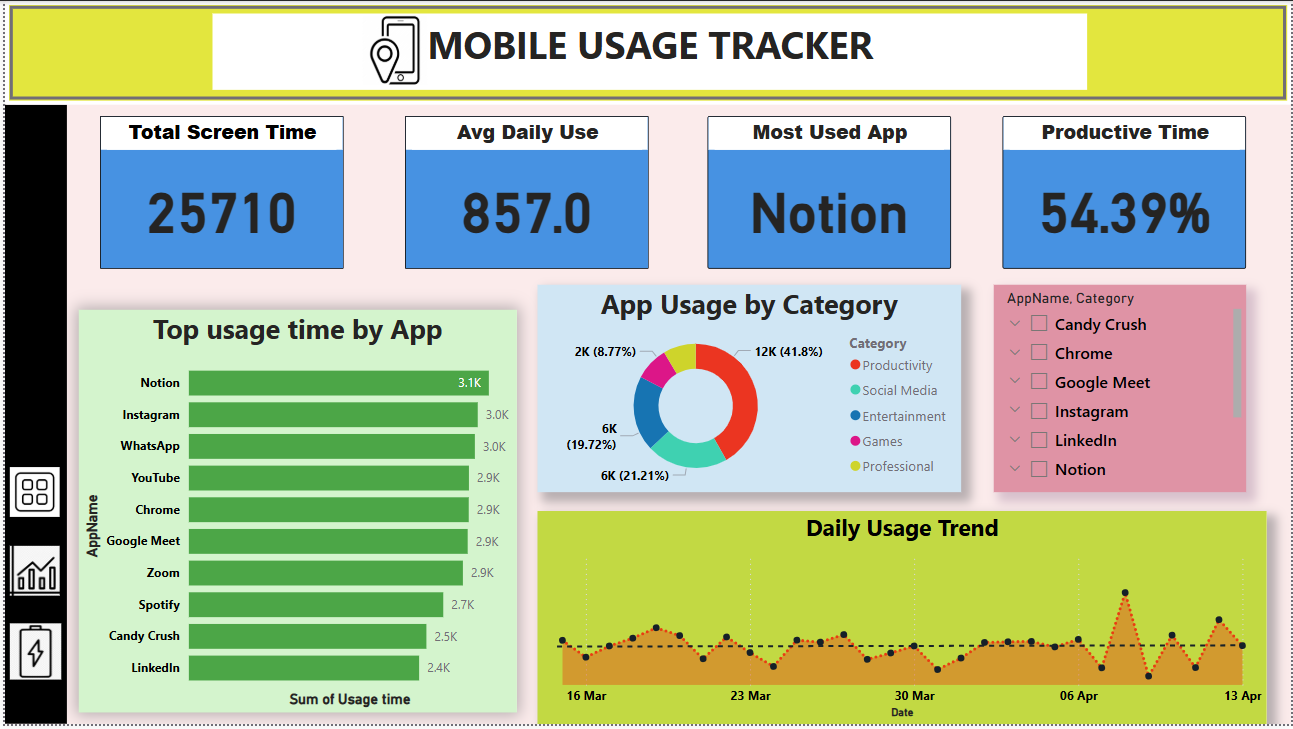

What the dashboard file says about the page in this screenshot:
{"tool":"powerbi","page":{"name":"Mobile Tracker Dashboard","canvas":[1280,720],"ordinal":0},"visuals":[{"type":"card","title":"Total Screen Time","fields":{"Values":["Mobile_Usage_Tracker.Total Screen Time (mins)"]},"box":[94.5,114.4,242,151.8],"z":0},{"type":"card","title":"Avg Daily Use","fields":{"Values":["Mobile_Usage_Tracker.Avg Daily Usage (mins)"]},"box":[398.1,114.4,242.6,151.8],"z":1000},{"type":"card","title":"Most Used App","fields":{"Values":["Mobile_Usage_Tracker.Most Used App"]},"box":[699.1,114,242,151.8],"z":2000},{"type":"card","title":"Productive Time","fields":{"Values":["Mobile_Usage_Tracker.Productive Time %"]},"box":[992.7,114.4,242.6,151.8],"z":3000},{"type":"textbox","box":[0,103,61.2,616.3],"z":4000},{"type":"actionButton","box":[0,0,1280,103.2],"z":5000},{"type":"textbox","box":[206.5,12.4,870.8,75.9],"z":7000},{"type":"barChart","title":"Top  usage time by App ","fields":{"Category":["Mobile_Usage_Tracker.AppName"],"Y":["Sum(Mobile_Usage_Tracker.AdjustedDuration_Final)"]},"box":[73.6,307.3,435.7,401.1],"z":8000},{"type":"donutChart","title":"App Usage by Category","fields":{"Category":["Mobile_Usage_Tracker.Category"],"Y":["Sum(Mobile_Usage_Tracker.Adjusted app usage(mins))"]},"box":[529.5,282.8,421.3,206.3],"z":9000},{"type":"slicer","fields":{"Values":["Mobile_Usage_Tracker.AppName","Mobile_Usage_Tracker.Category"]},"box":[984,282.8,251,206.3],"z":10000},{"type":"areaChart","title":"Daily Usage Trend","fields":{"Category":["Mobile_Usage_Tracker.Date"],"Y":["Sum(Mobile_Usage_Tracker.Adjusted app usage(mins))"]},"box":[529.5,507.9,725.7,212.1],"z":11001},{"type":"image","box":[0,459,59.7,59.7],"z":11002,"group":"g1"},{"type":"image","box":[0,537.4,59.7,59.7],"z":11003,"group":"g1"},{"type":"image","box":[0,614.5,61,65.9],"z":11004,"group":"g1"},{"type":"group","id":"g1","title":"Group 1","box":[0,459,61,221.4],"z":11005},{"type":"image","box":[350.8,10,74.6,78.4],"z":11006}]}

Visuals, with their boxes in screenshot pixels (x1, y1, x2, y2), scaled from the page's 1280x720 canvas onto the 1293x729 screenshot:
"Total Screen Time" card: pyautogui.locateOnScreen(95, 116, 340, 270)
"Avg Daily Use" card: pyautogui.locateOnScreen(402, 116, 647, 270)
"Most Used App" card: pyautogui.locateOnScreen(706, 115, 951, 269)
"Productive Time" card: pyautogui.locateOnScreen(1003, 116, 1248, 270)
textbox: pyautogui.locateOnScreen(0, 104, 62, 728)
actionButton: pyautogui.locateOnScreen(0, 0, 1292, 104)
textbox: pyautogui.locateOnScreen(209, 13, 1088, 89)
"Top  usage time by App " barChart: pyautogui.locateOnScreen(74, 311, 514, 717)
"App Usage by Category" donutChart: pyautogui.locateOnScreen(535, 286, 960, 495)
slicer - Mobile_Usage_Tracker.AppName x Mobile_Usage_Tracker.Category: pyautogui.locateOnScreen(994, 286, 1248, 495)
"Daily Usage Trend" areaChart: pyautogui.locateOnScreen(535, 514, 1268, 728)
image: pyautogui.locateOnScreen(0, 465, 60, 525)
image: pyautogui.locateOnScreen(0, 544, 60, 605)
image: pyautogui.locateOnScreen(0, 622, 62, 689)
"Group 1" group: pyautogui.locateOnScreen(0, 465, 62, 689)
image: pyautogui.locateOnScreen(354, 10, 430, 90)
